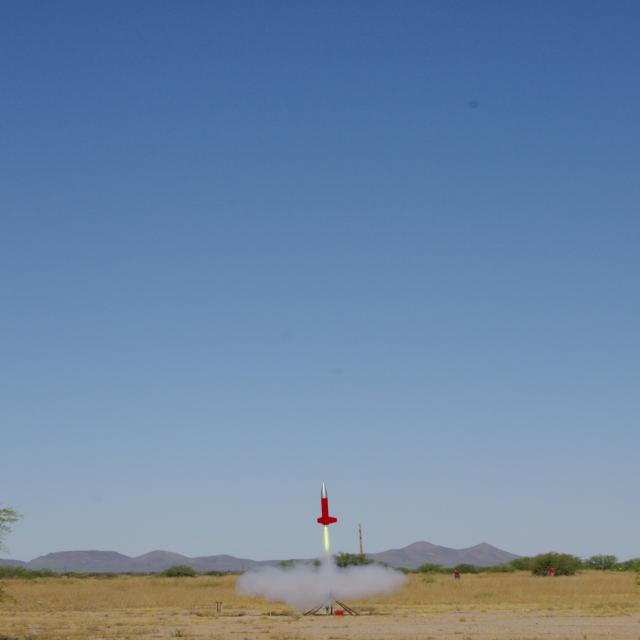Rocket: (317, 482, 337, 526)
